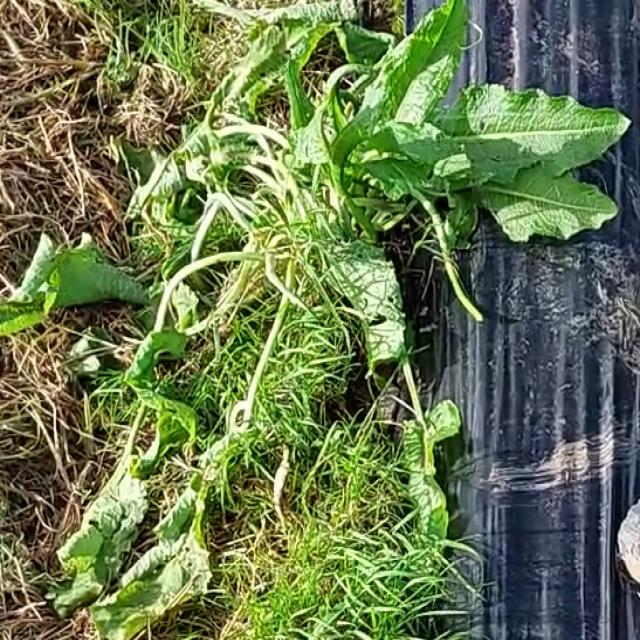organic waste: (190, 16, 616, 282), (55, 341, 287, 640), (12, 214, 264, 351)
